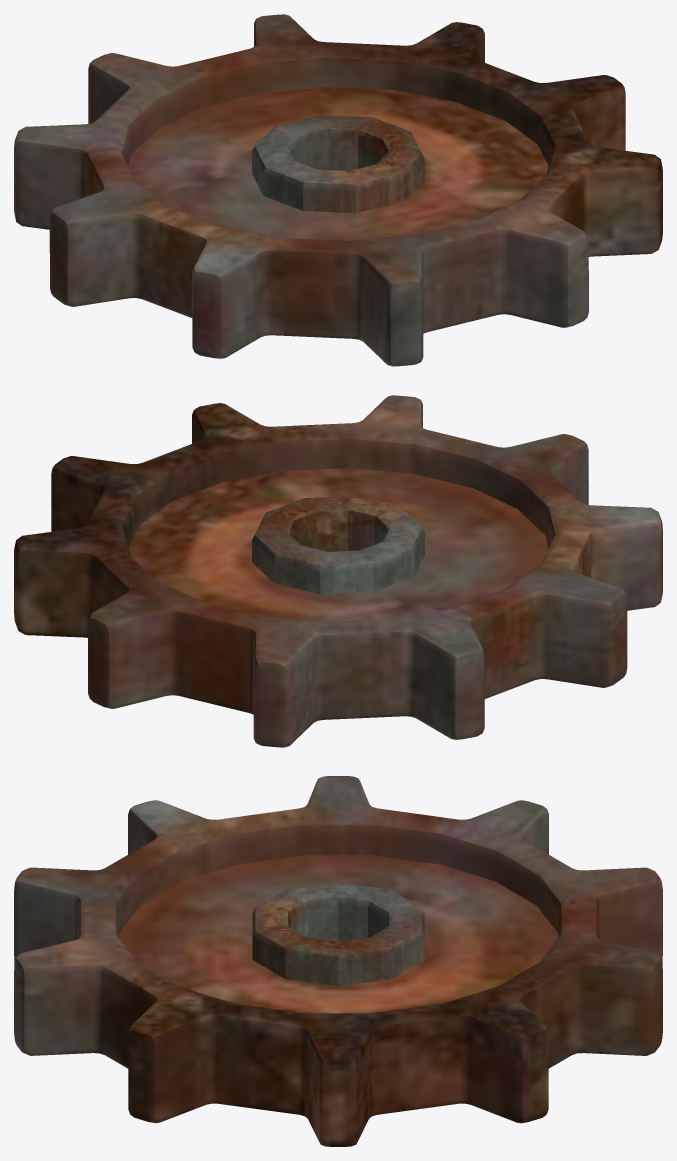
The model's file is item.scrap_component.glb.
3 views of the same model, one above another, from view 1: azimuth 30°, elevation 25°; view 2: azimuth 150°, elevation 25°; view 3: azimuth 270°, elevation 25° (orthographic). The views are drawn at different scales.
Parts seen in each view (by area): view 1: Metal_Scrap_A_1; view 2: Metal_Scrap_A_1; view 3: Metal_Scrap_A_1.
Boxes of the visible parts, x1,y1,x2,y2 form: Metal_Scrap_A_1: (14, 14, 662, 366); Metal_Scrap_A_1: (14, 395, 662, 747); Metal_Scrap_A_1: (14, 776, 662, 1146).
Size of the model in its own units: 1.2 by 0.1803 by 1.15.
Materials: 1 (1 with a texture image).
